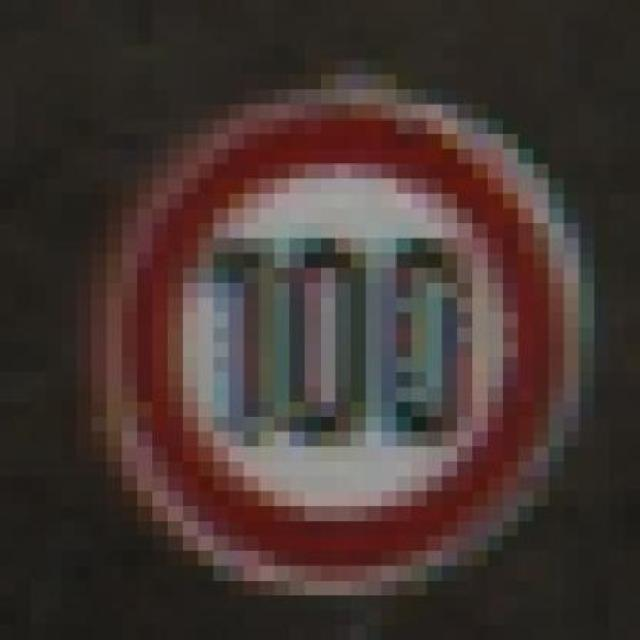forb_speed_over_100: (133, 110, 570, 573)
